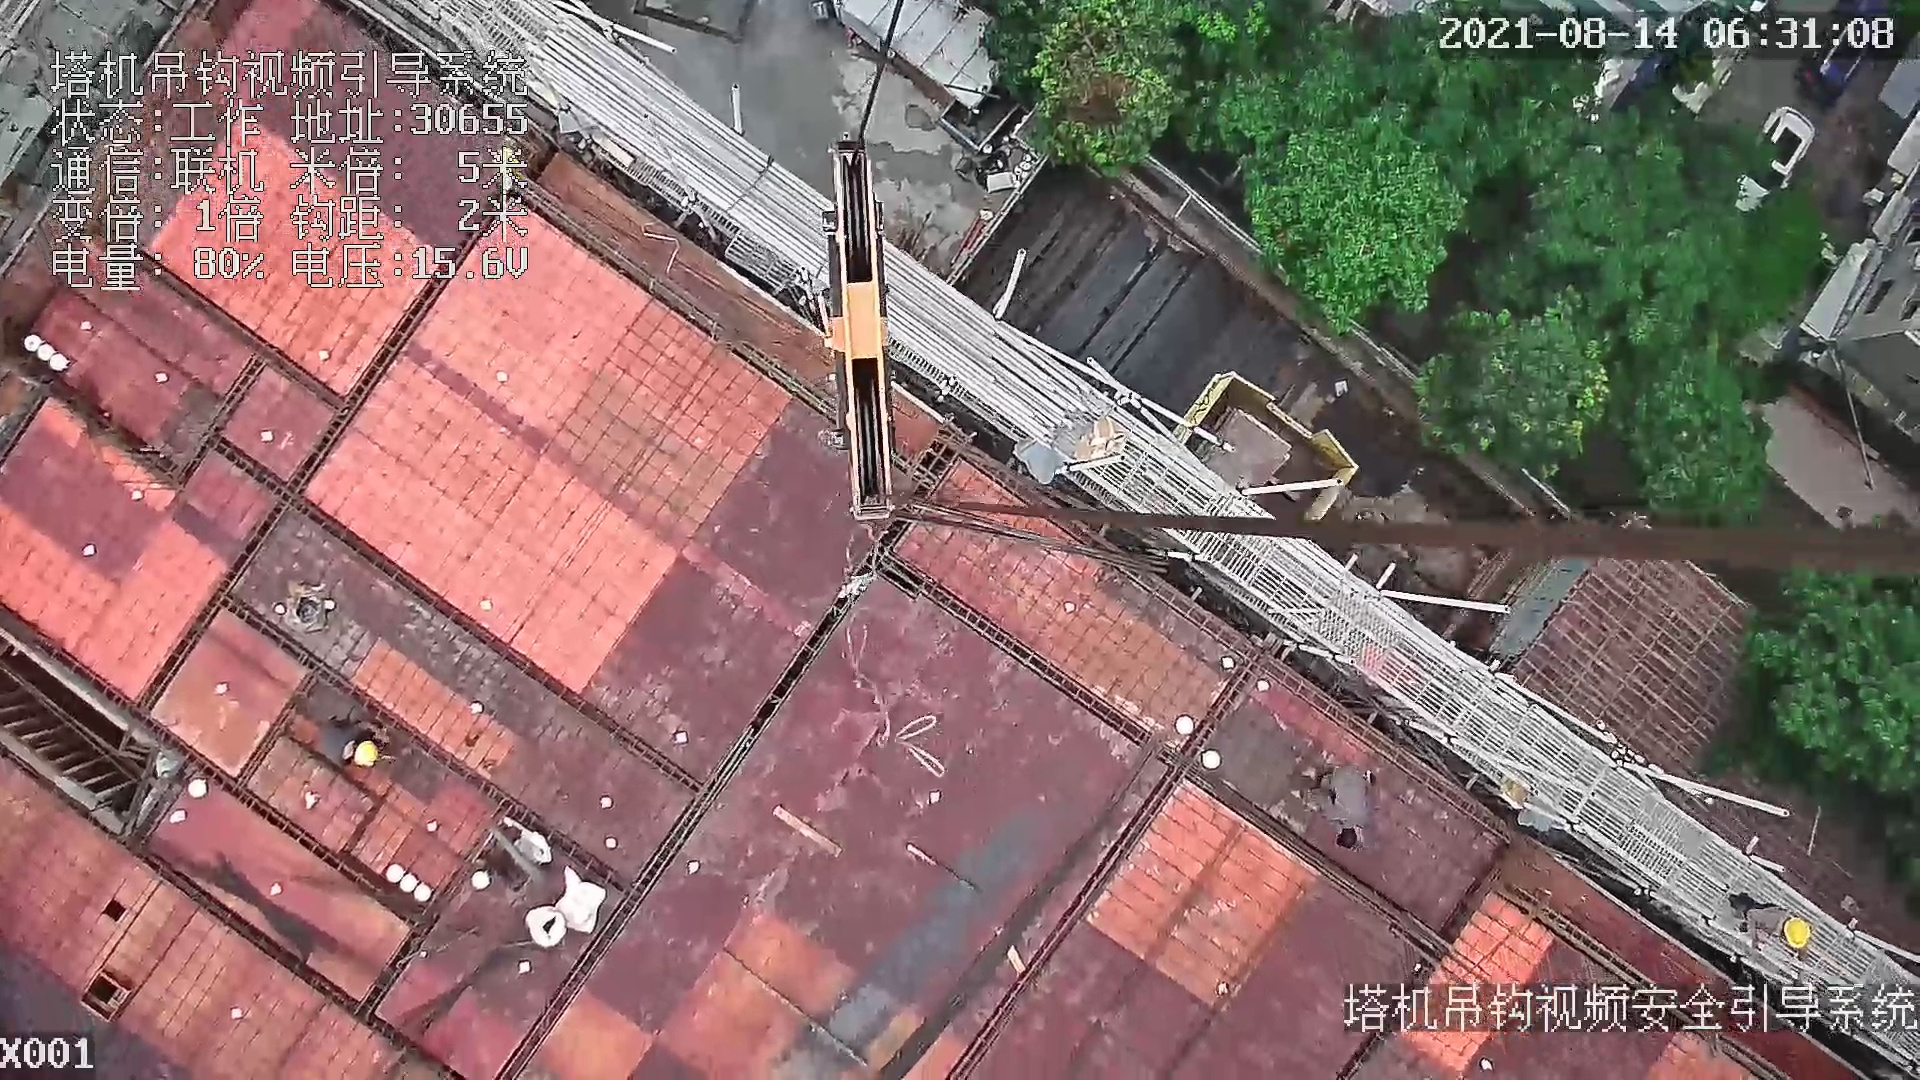helmet: (1785, 917, 1811, 953), (354, 741, 381, 767)
hook: (817, 137, 901, 515)
person: (1728, 891, 1819, 954), (319, 715, 400, 776)
